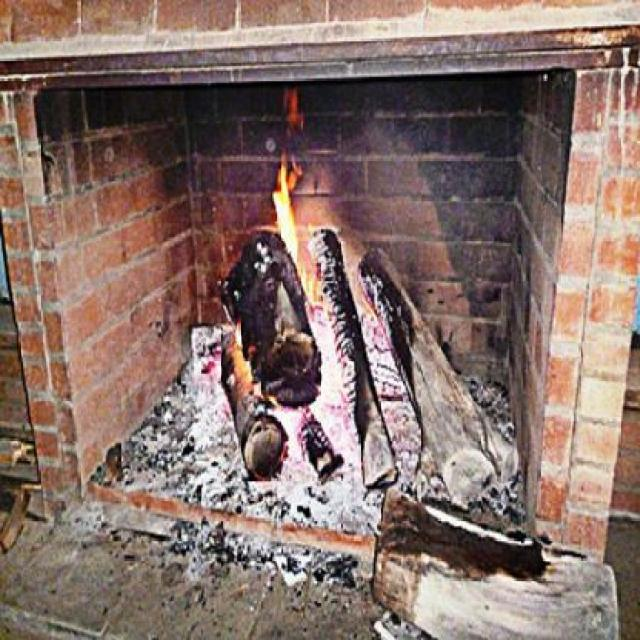Fire: (186, 136, 446, 412)
